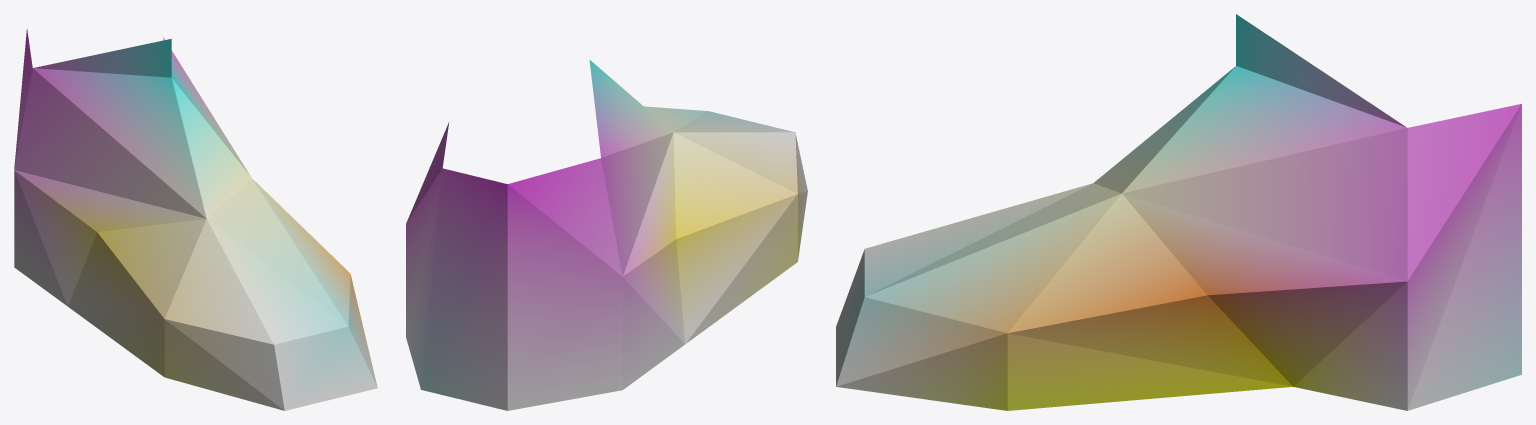
The picture shows the model from 3 angles, left to right: view 1: azimuth 30°, elevation 25°; view 2: azimuth 150°, elevation 25°; view 3: azimuth 270°, elevation 25°; orthographic projection. The views are drawn at different scales.
Parts seen in each view (by area): view 1: model_1194; view 2: model_1194; view 3: model_1194.
Part boxes in pixels (x1=…): model_1194: x1=14, y1=29, x2=377, y2=410; model_1194: x1=406, y1=59, x2=807, y2=410; model_1194: x1=836, y1=14, x2=1521, y2=410.
Bounding box in the file's own units: 10 × 13 × 24.
